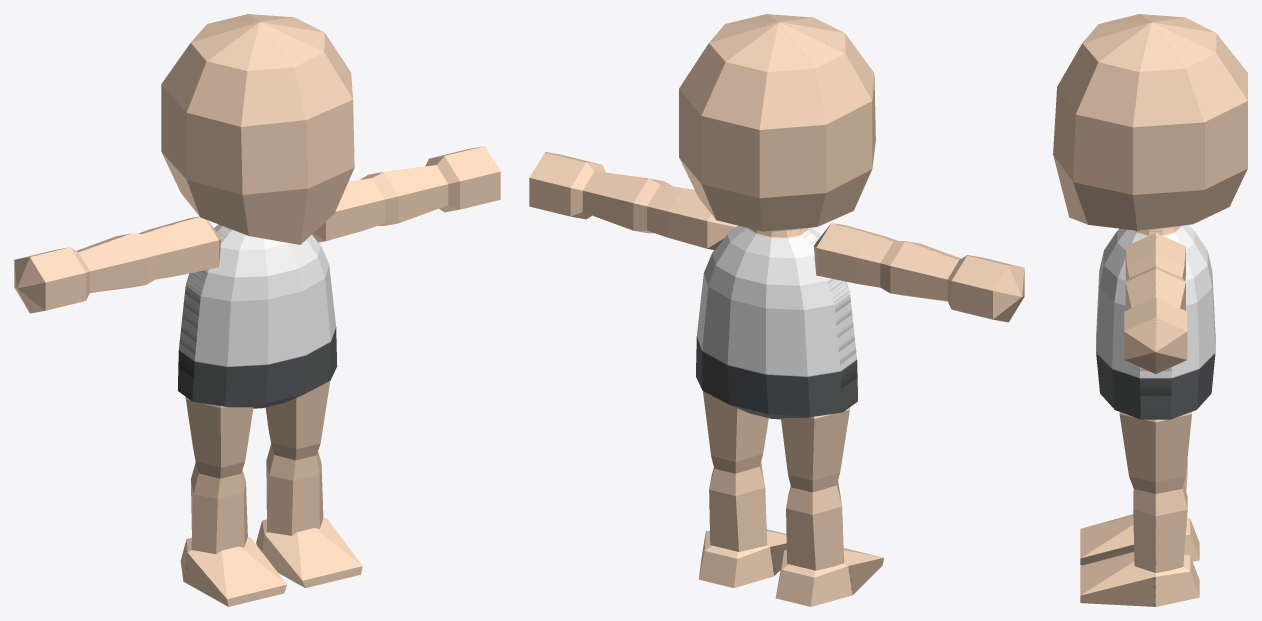
The model's file is player_model.obj.
3 views of the same model, side by side, from view 1: azimuth 30°, elevation 25°; view 2: azimuth 150°, elevation 25°; view 3: azimuth 270°, elevation 25° (orthographic).
Visible parts, largest first — view 1: head, body, leg_left, leg_right, arm_left, arm_right; view 2: head, body, leg_left, arm_left, leg_right, arm_right; view 3: head, leg_right, body, arm_right, leg_left.
Boxes of the visible parts, x1,y1,x2,y2 form: head: [161, 14, 354, 244]; body: [178, 224, 337, 408]; leg_left: [180, 397, 286, 606]; leg_right: [256, 381, 362, 587]; arm_left: [14, 216, 221, 313]; arm_right: [312, 146, 500, 242]; head: [679, 14, 875, 231]; body: [696, 225, 857, 419]; leg_left: [775, 407, 883, 606]; arm_left: [813, 223, 1024, 322]; leg_right: [698, 391, 786, 587]; arm_right: [529, 152, 737, 249]; head: [1053, 14, 1247, 230]; leg_right: [1080, 412, 1199, 606]; body: [1096, 225, 1215, 419]; arm_right: [1124, 233, 1187, 373]; leg_left: [1080, 459, 1199, 565].
Bounding box in the file's own units: 1.12 × 1.2 × 0.3875.
1 material, 1 textured.
